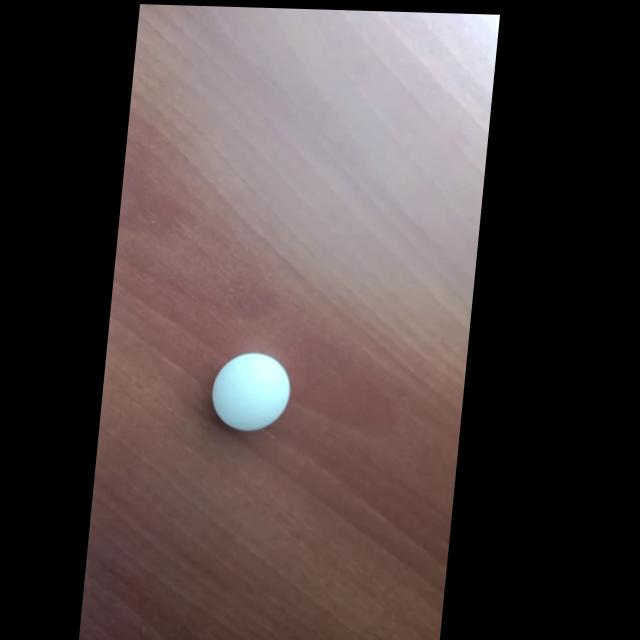white ball: (208, 350, 294, 433)
